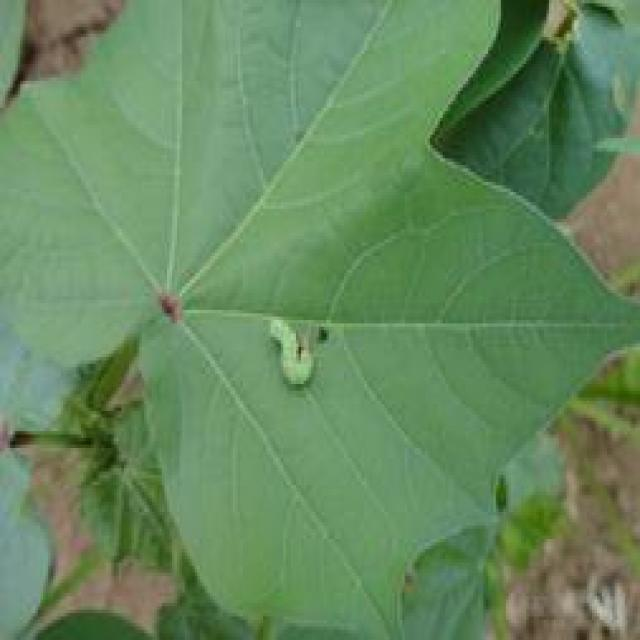BeetArmyWorm-Larva-: (266, 307, 326, 398)
